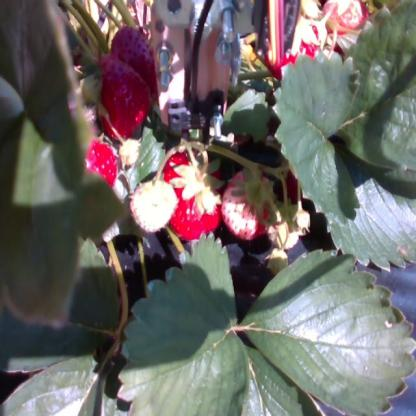ripe: (93, 62, 156, 137), (168, 158, 223, 235), (112, 34, 160, 94), (226, 177, 274, 233), (81, 138, 123, 190)
unripe: (129, 176, 174, 236)
